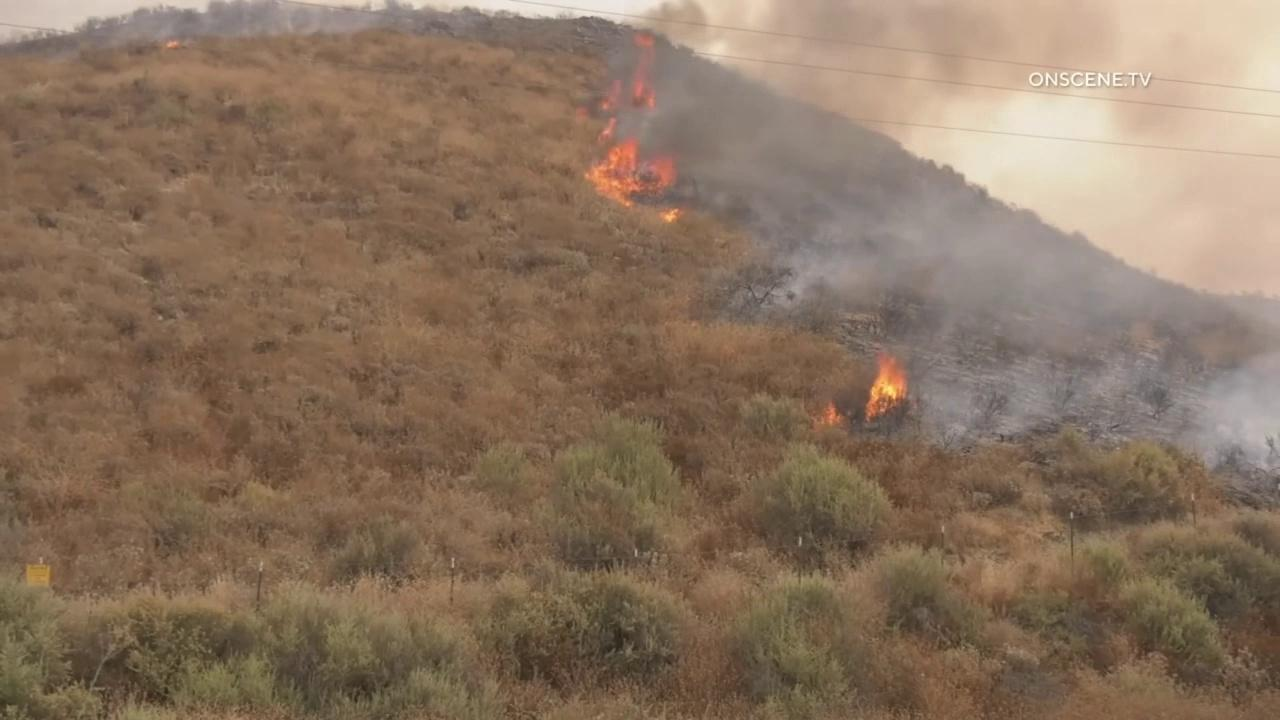fire: (585, 118, 678, 207), (864, 351, 909, 423), (632, 31, 657, 111), (601, 80, 622, 110), (820, 400, 841, 425), (659, 208, 679, 224), (575, 106, 588, 123), (166, 40, 178, 48)
smoke: (608, 0, 1280, 474), (0, 0, 400, 61)
